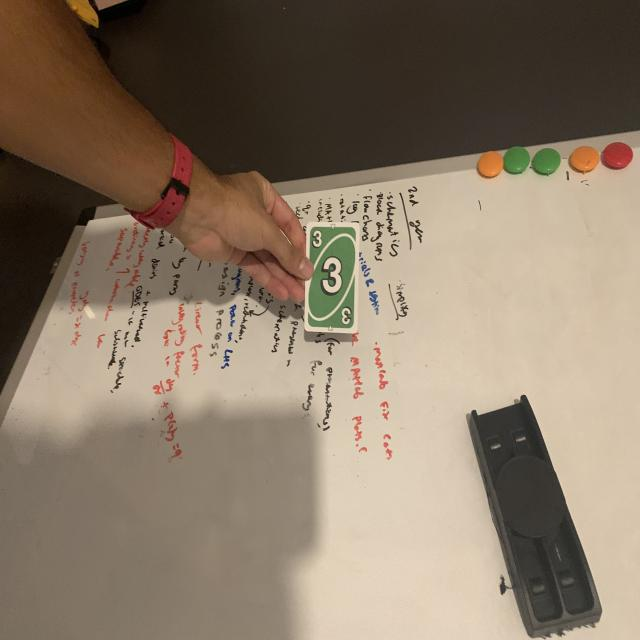lgreen-3: (310, 228, 325, 250)
